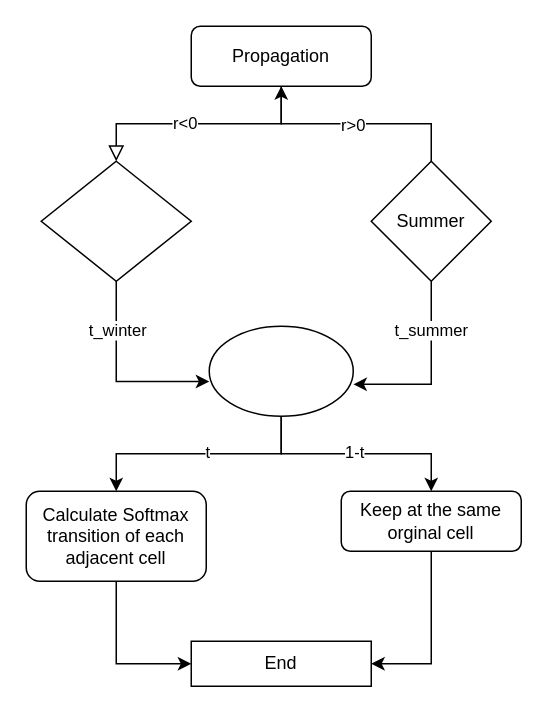
This 548x713 diagram has some shape labels left out. Here are the shapes that lost their labels. From the top down, the box of each, then its label:
(40, 160, 191, 281): Winter
(208, 325, 353, 416): Transition
